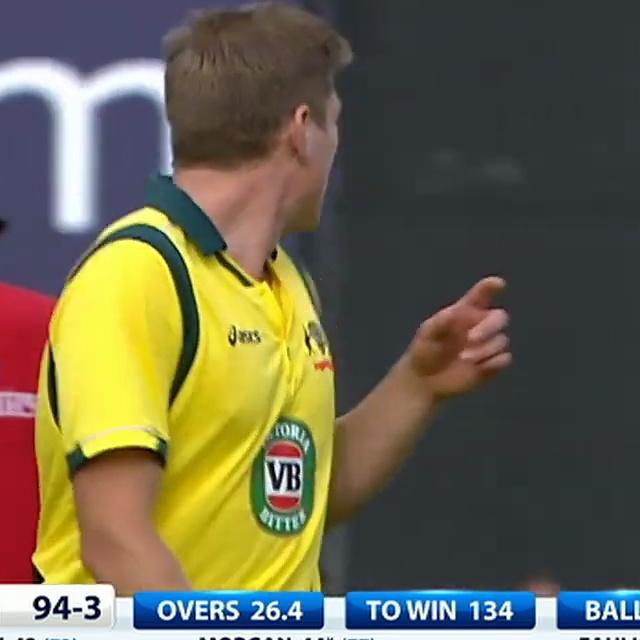umpire: (0, 0, 96, 595)
